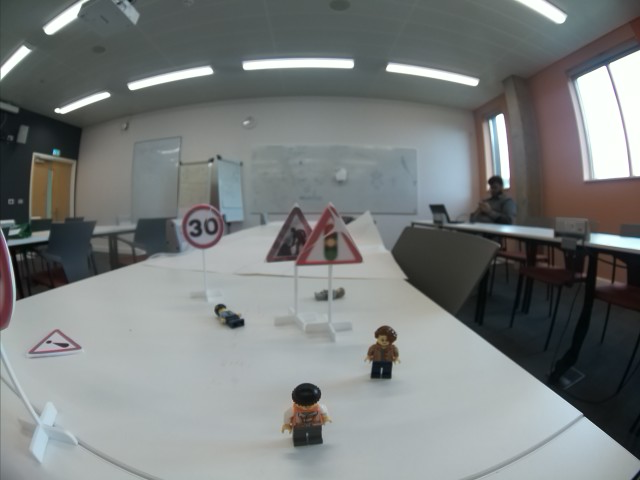30mph: (180, 204, 224, 250)
Lego Man: (278, 379, 335, 450), (362, 324, 403, 381), (212, 301, 245, 329), (314, 286, 345, 302)
Roadworks: (267, 206, 310, 263)
Traffic lights: (293, 203, 363, 268)
Warning: (25, 324, 86, 360)
